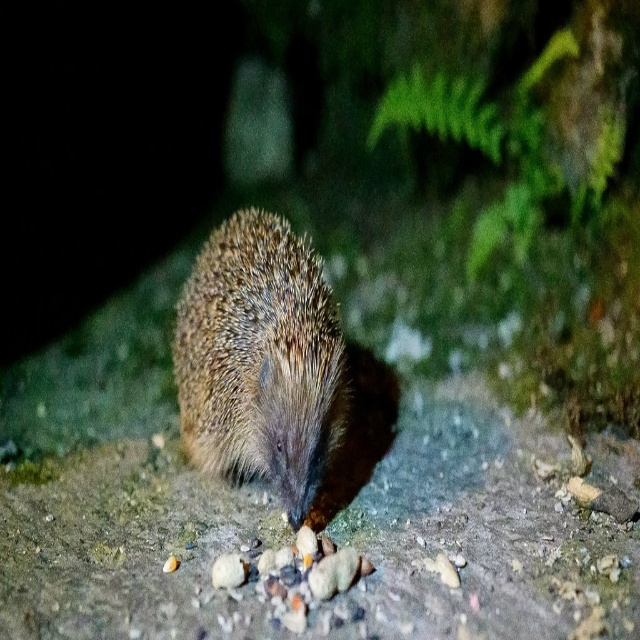Hedgehog: (170, 203, 357, 534)
